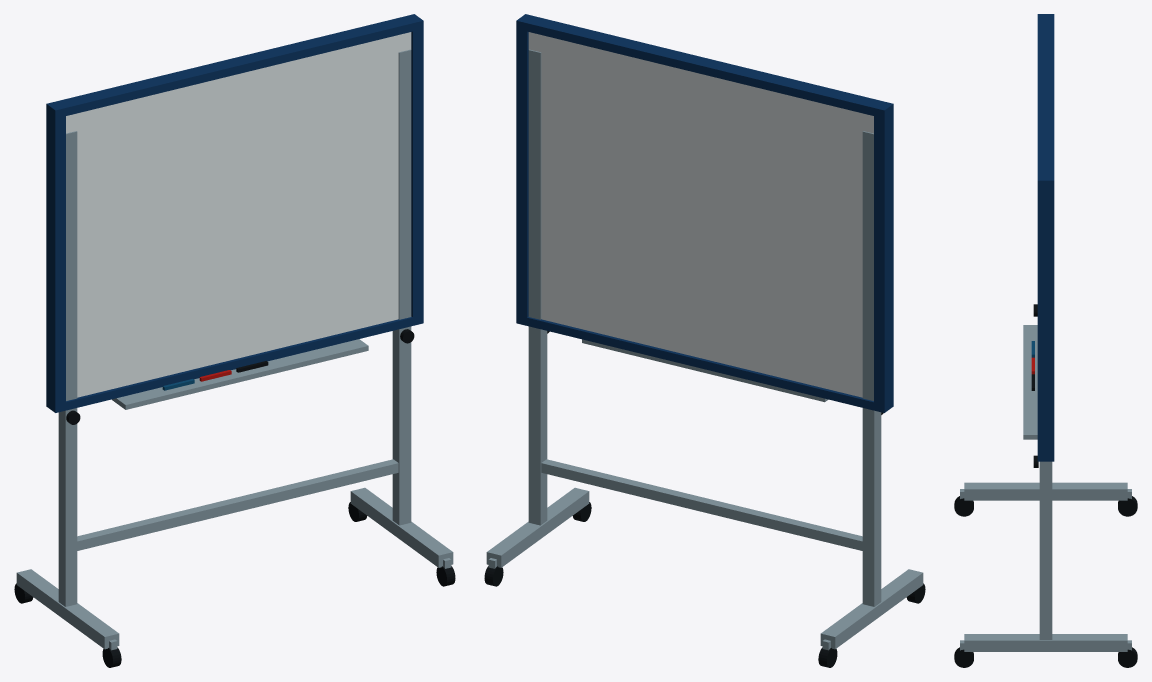
Rendered from whiteboard.dae.
3 views of the same model, side by side, from view 1: azimuth 30°, elevation 25°; view 2: azimuth 150°, elevation 25°; view 3: azimuth 270°, elevation 25° (orthographic). The views are drawn at different scales.
Parts seen in each view (by area): view 1: writing_panel, stand_upright (×2), horizontal_frame (×2), side_frame (×2), stand_crossbar, stand_foot (×2), pen_tray; view 2: writing_panel, stand_upright (×2), horizontal_frame (×2), side_frame (×2), stand_crossbar, stand_foot (×2), pen_tray; view 3: stand_foot (×2), side_frame, horizontal_frame, stand_upright, pen_tray, caster (×4).
Part boxes in pixels (<box>): writing_panel: <box>66,32,411,397</box>; stand_upright (×2): <box>58,49,411,606</box>; horizontal_frame (×2): <box>46,16,423,412</box>; side_frame (×2): <box>46,14,423,412</box>; stand_crossbar: <box>77,459,398,550</box>; stand_foot (×2): <box>16,487,453,649</box>; pen_tray: <box>112,339,368,409</box>; writing_panel: <box>528,32,873,397</box>; stand_upright (×2): <box>528,49,881,606</box>; horizontal_frame (×2): <box>516,16,893,412</box>; side_frame (×2): <box>516,14,893,412</box>; stand_crossbar: <box>541,459,862,550</box>; stand_foot (×2): <box>486,487,923,649</box>; pen_tray: <box>582,339,828,402</box>; stand_foot (×2): <box>964,482,1127,651</box>; side_frame: <box>1037,176,1054,461</box>; horizontal_frame: <box>1037,18,1054,187</box>; stand_upright: <box>1039,461,1052,639</box>; pen_tray: <box>1023,325,1037,439</box>; caster (×4): <box>954,496,1137,667</box>.
Size of the model in its own units: 1400 by 650 by 1930.
